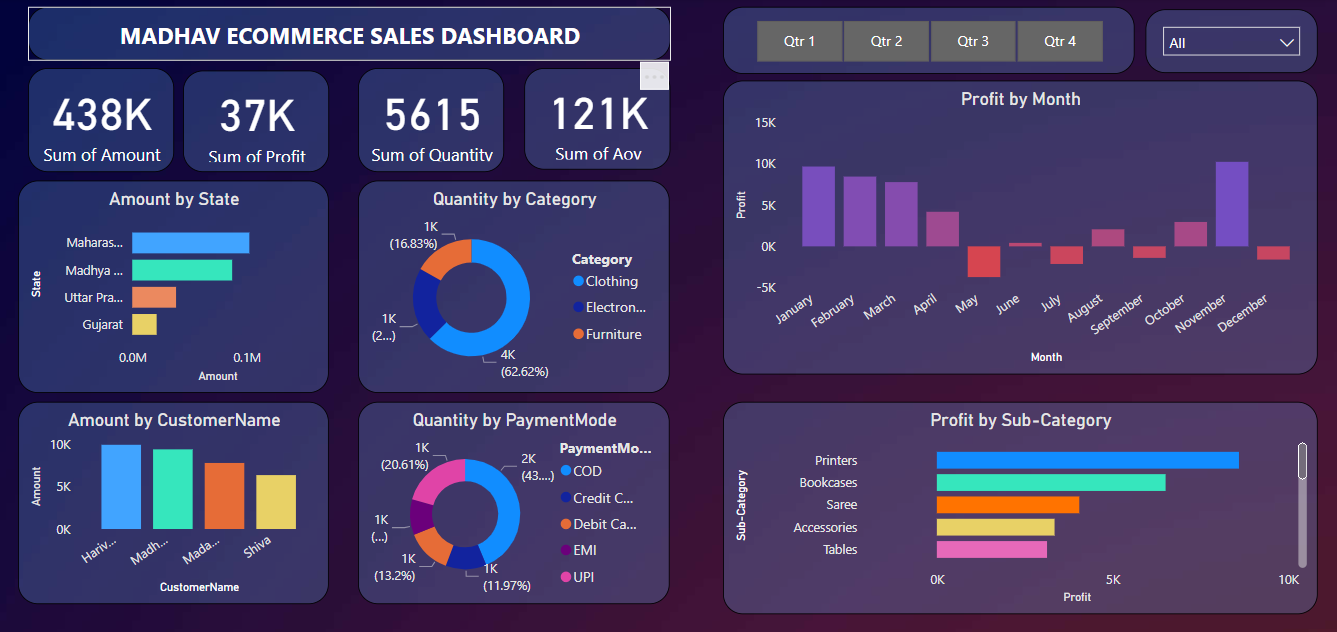

The dashboard page shown, as its layout file describes it:
{"tool":"powerbi","page":{"name":"Page 1","canvas":[1280,720],"ordinal":0},"visuals":[{"type":"barChart","fields":{"Category":["Orders.State"],"Y":["Details.Amount"]},"box":[19,174,296,202],"z":0},{"type":"clusteredColumnChart","fields":{"Y":["Details.Amount"],"Category":["Orders.CustomerName"]},"box":[19,384,296,193],"z":1000},{"type":"donutChart","fields":{"Y":["Details.Quantity"],"Series":["Details.Category"]},"box":[343,174,297,202],"z":2000},{"type":"donutChart","fields":{"Series":["Details.PaymentMode"],"Y":["Details.Quantity"]},"box":[343,384,297,193],"z":3000},{"type":"clusteredColumnChart","fields":{"Y":["Details.Profit"],"Category":["Orders.Order Date.Variation.Date Hierarchy.Month"]},"box":[690.8,78.2,566,280],"z":4000},{"type":"barChart","fields":{"Category":["Details.Sub-Category"],"Y":["Details.Profit"]},"box":[691,384,566,202],"z":5000},{"type":"card","fields":{"Values":["Details.Amount"]},"box":[28,67,139,99],"z":6000},{"type":"card","fields":{"Values":["Details.Profit"]},"box":[176,69,139,97],"z":7000},{"type":"card","fields":{"Values":["Details.Quantity"]},"box":[343,67,139,99],"z":8000},{"type":"card","fields":{"Values":["Details.Aov"]},"box":[501,67,139,97],"z":9000},{"type":"textbox","box":[28,8,612,51],"z":10000},{"type":"slicer","fields":{"Values":["Orders.Order Date.Variation.Date Hierarchy.Quarter"]},"box":[691,8,392,64],"z":11000},{"type":"slicer","fields":{"Values":["Orders.State"]},"box":[1093,11,164,61],"z":12000}]}

Visuals, with their boxes on the page's 1280x720 design canvas (x1, y1, x2, y2). These are canvas units, not pixel positions in the 1337x632 screenshot, which may show the page scaled, cropped or inside an application window:
barChart - Orders.State x Details.Amount: {"x1": 19, "y1": 174, "x2": 315, "y2": 376}
clusteredColumnChart - Details.Amount x Orders.CustomerName: {"x1": 19, "y1": 384, "x2": 315, "y2": 577}
donutChart - Details.Quantity x Details.Category: {"x1": 343, "y1": 174, "x2": 640, "y2": 376}
donutChart - Details.PaymentMode x Details.Quantity: {"x1": 343, "y1": 384, "x2": 640, "y2": 577}
clusteredColumnChart - Details.Profit x Orders.Order Date.Variation.Date Hierarchy.Month: {"x1": 691, "y1": 78, "x2": 1257, "y2": 358}
barChart - Details.Sub-Category x Details.Profit: {"x1": 691, "y1": 384, "x2": 1257, "y2": 586}
card - Details.Amount: {"x1": 28, "y1": 67, "x2": 167, "y2": 166}
card - Details.Profit: {"x1": 176, "y1": 69, "x2": 315, "y2": 166}
card - Details.Quantity: {"x1": 343, "y1": 67, "x2": 482, "y2": 166}
card - Details.Aov: {"x1": 501, "y1": 67, "x2": 640, "y2": 164}
textbox: {"x1": 28, "y1": 8, "x2": 640, "y2": 59}
slicer - Orders.Order Date.Variation.Date Hierarchy.Quarter: {"x1": 691, "y1": 8, "x2": 1083, "y2": 72}
slicer - Orders.State: {"x1": 1093, "y1": 11, "x2": 1257, "y2": 72}
